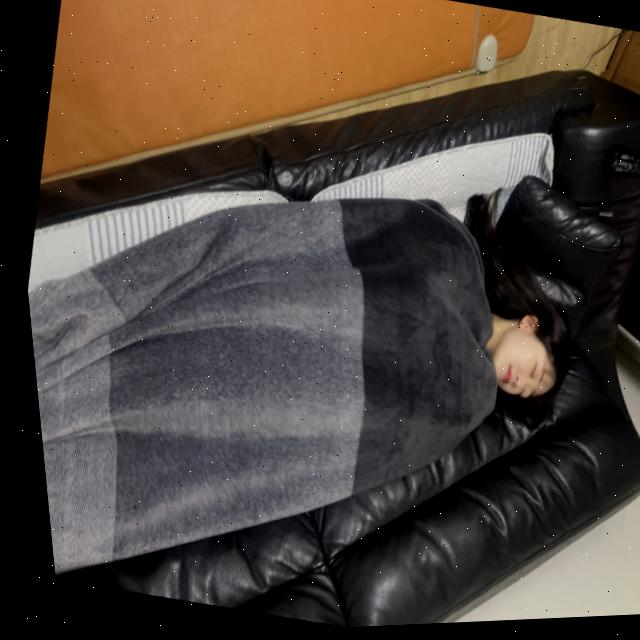sleeping-person: (8, 83, 635, 640)
